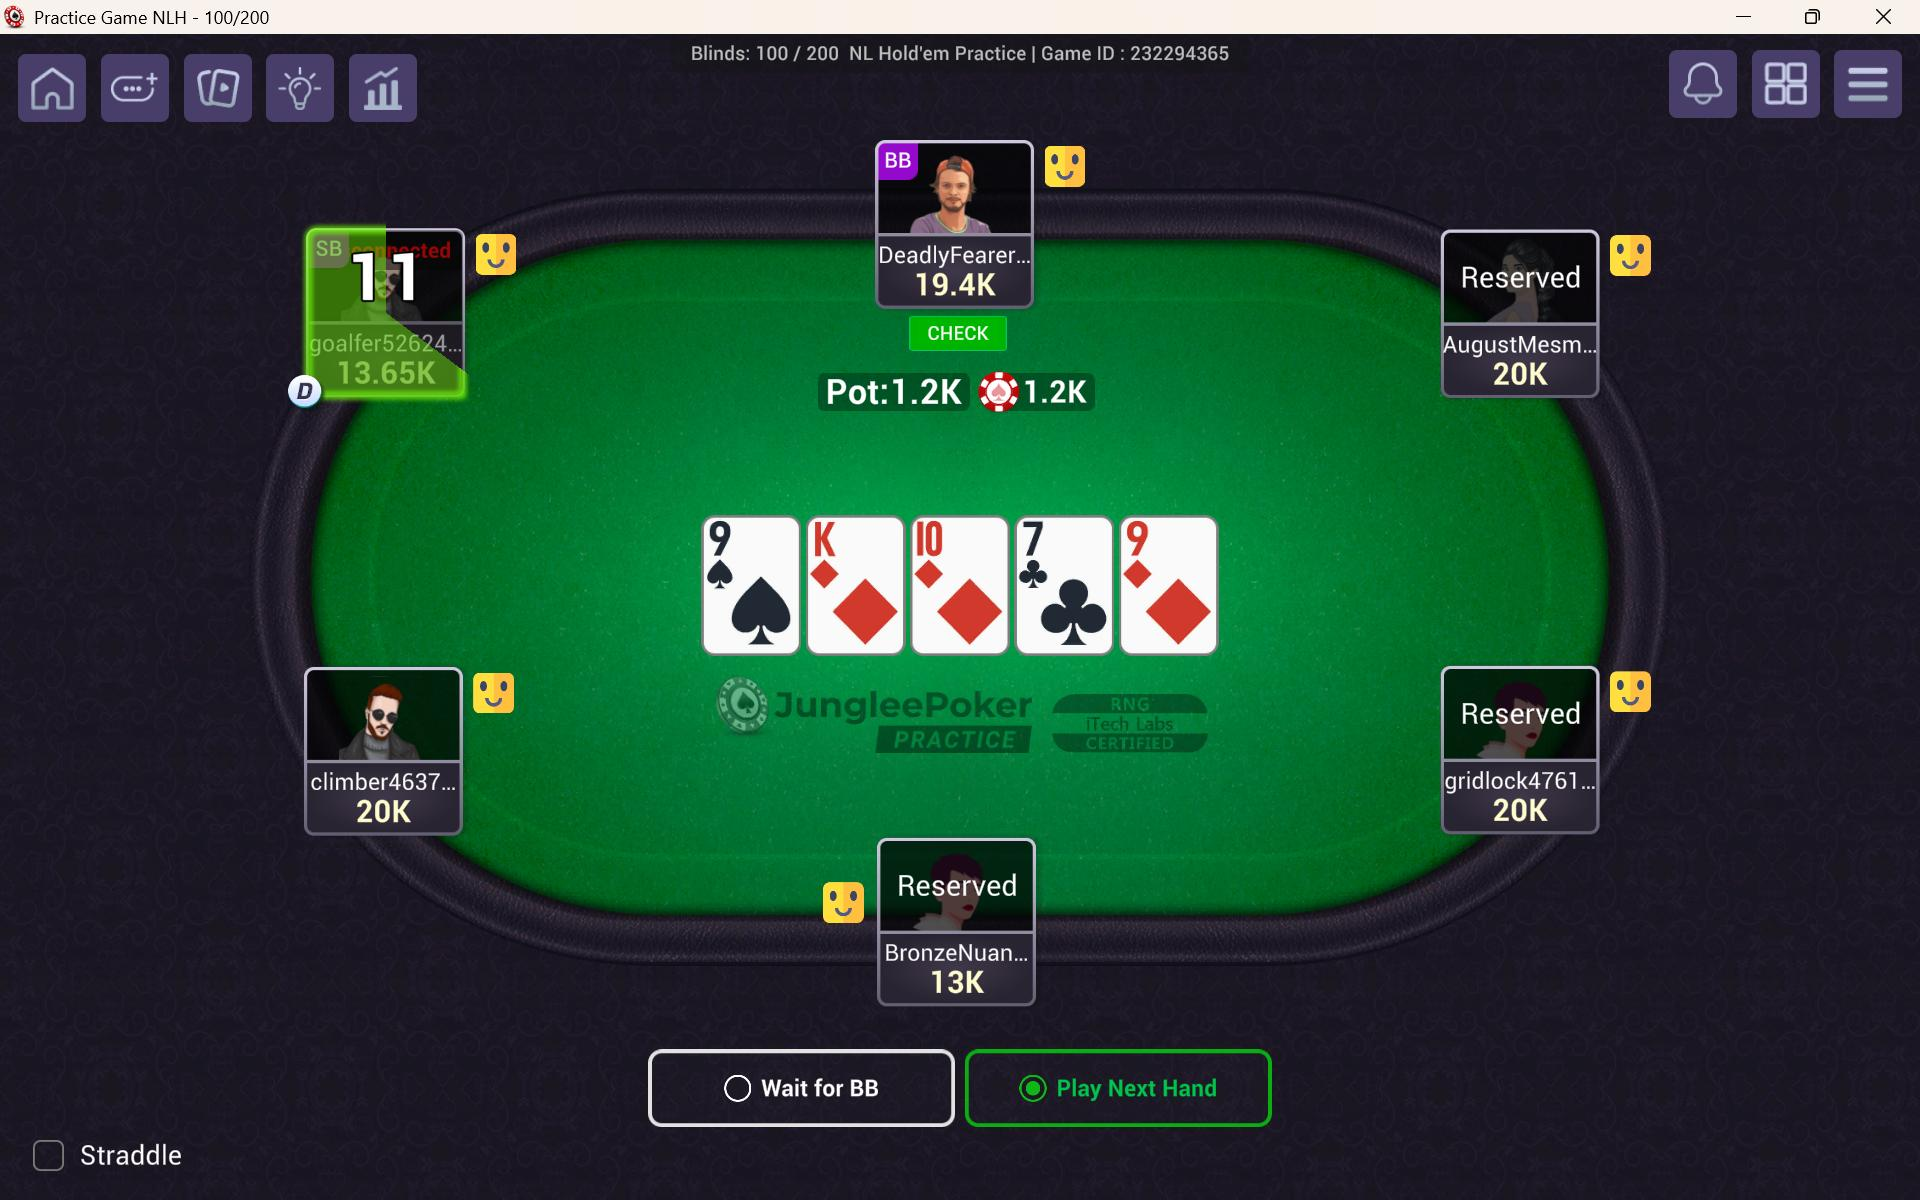flop1_rank: (705, 520, 770, 563)
flop1_suite_spades: (724, 572, 795, 653)
flop2_rank: (810, 520, 857, 565)
flop2_suite_diamond: (829, 572, 894, 653)
flop3_rank: (915, 517, 970, 560)
flop3_suite_diamond: (933, 575, 1010, 653)
game_id: (1035, 40, 1243, 75)
my_stack: (908, 962, 1002, 1002)
position_BB: (878, 142, 925, 185)
position_SB: (310, 228, 355, 263)
river_rank: (1117, 517, 1180, 565)
river_suite_diamond: (1140, 575, 1215, 653)
total_pot: (817, 371, 1098, 415)
turn_rank: (1017, 517, 1060, 563)
turn_suite_club: (1035, 572, 1116, 653)
villian1_name: (307, 760, 458, 800)
villian1_stack: (343, 798, 427, 828)
villian2_name: (312, 330, 467, 358)
villian2_stack: (335, 358, 451, 390)
villian3_name: (875, 235, 1030, 272)
villian3_stack: (894, 265, 1012, 312)
villian4_name: (1438, 322, 1601, 362)
villian4_stack: (1480, 359, 1562, 393)
villian5_name: (1440, 758, 1595, 792)
villian5_stack: (1469, 789, 1562, 828)
